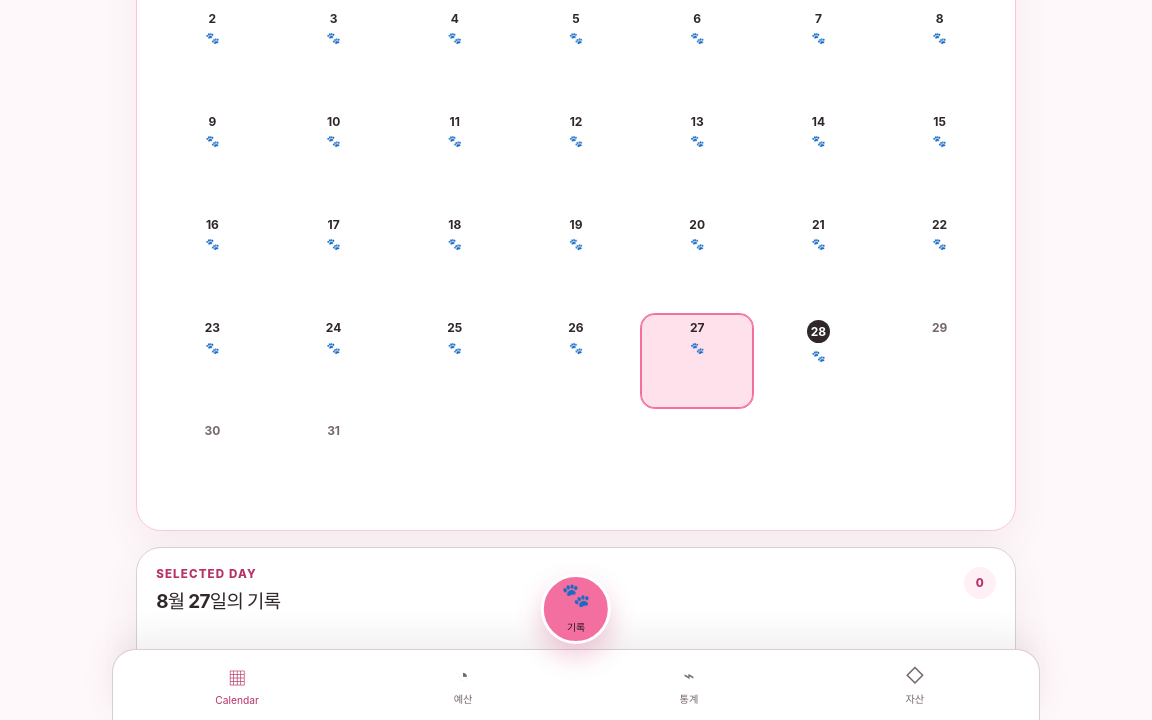
it: App › updates URL and selected-day API when a calendar date is selected
The image size is (1152, 720).
(page scrolled)
Step 1. Click the button named "26일, 거래 없음, 무지출" → x=576, y=360, box [519,312,633,408]
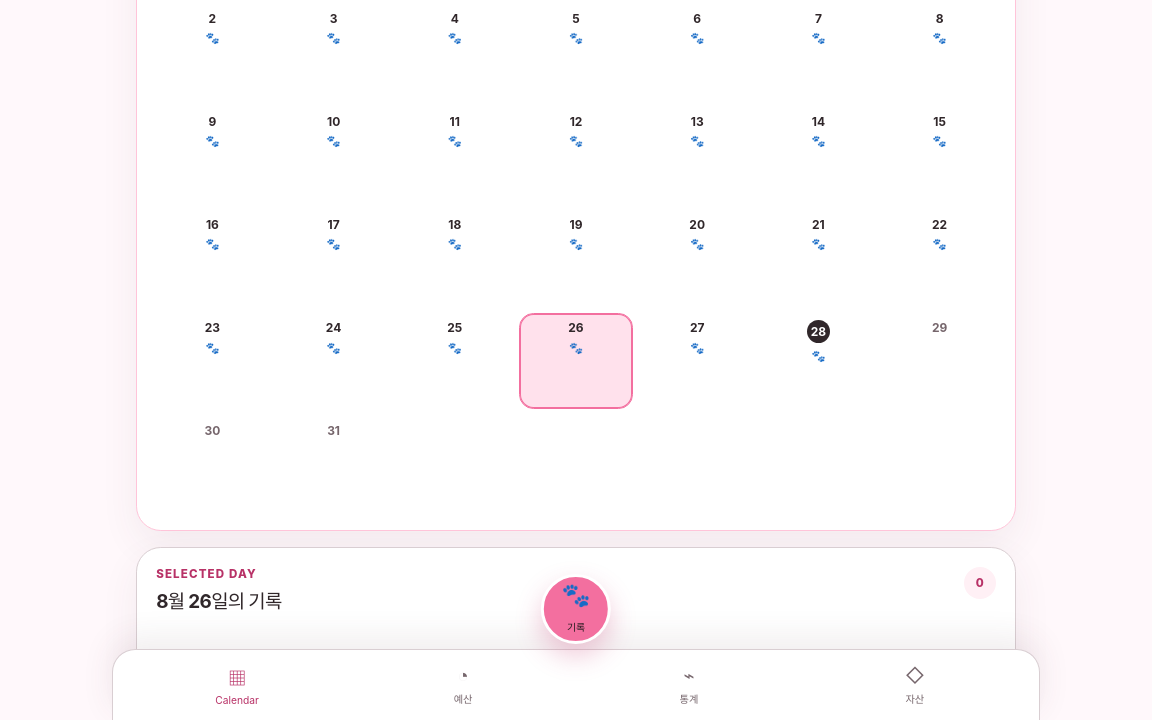
Expected: the heading "8월 26일의 기록" is shown, [156,586,282,613]
